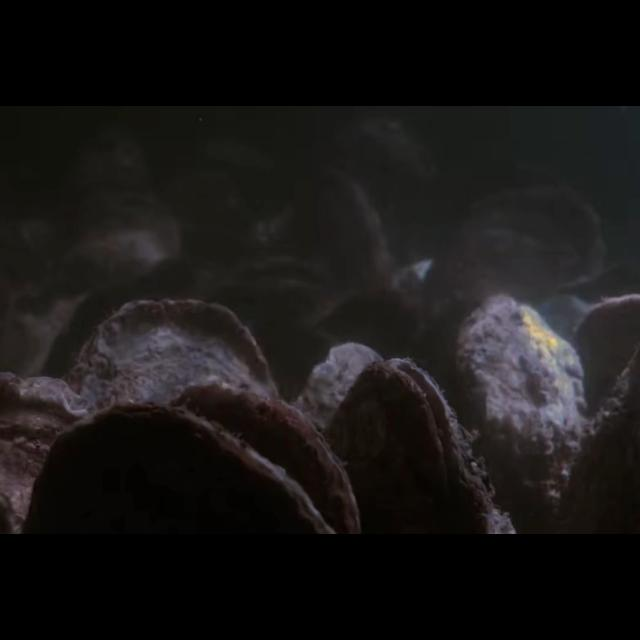Oyster-Closed: (24, 402, 333, 534), (168, 380, 360, 534), (0, 372, 98, 534)
Oyster-Indeterminate: (65, 300, 279, 534), (451, 294, 591, 534), (416, 184, 606, 340), (292, 343, 384, 534), (314, 168, 398, 296), (62, 199, 185, 283), (570, 294, 640, 438)
Oyster-Open: (324, 358, 514, 534), (203, 250, 335, 318)
